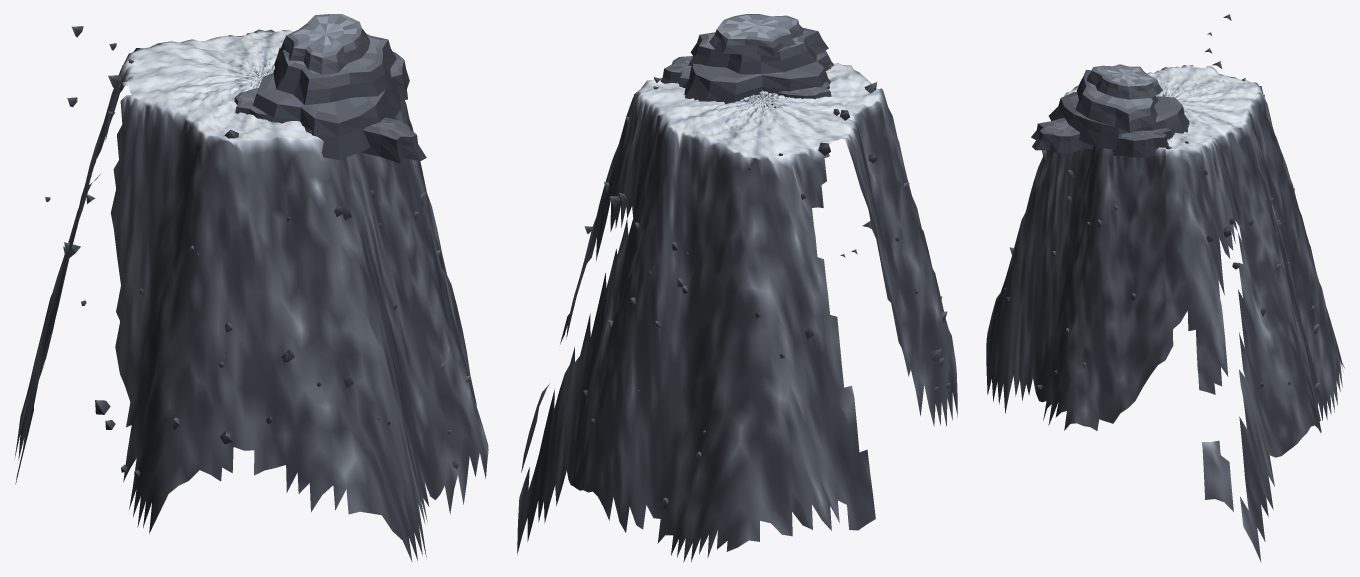
File: dragon_peak.glb
3 views of the same model, side by side, from view 1: azimuth 30°, elevation 25°; view 2: azimuth 150°, elevation 25°; view 3: azimuth 270°, elevation 25° (orthographic). The views are drawn at different scales.
Visible parts, largest first — view 1: dragon_peak; view 2: dragon_peak; view 3: dragon_peak.
Part boxes in pixels (left/top/right/bottom): dragon_peak: left=14, top=14, right=488, bottom=561; dragon_peak: left=517, top=14, right=957, bottom=562; dragon_peak: left=986, top=14, right=1344, bottom=562.
Size of the model in its own units: 92.66 by 122 by 93.27.
Materials: 1 (1 with a texture image).
